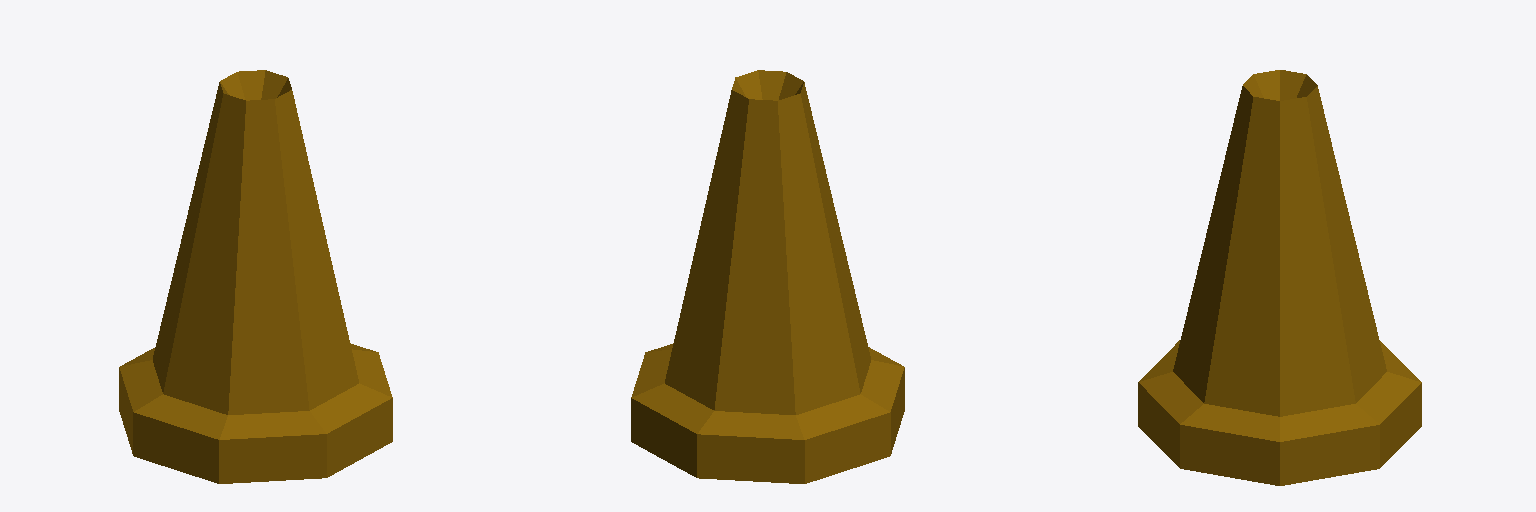
Rendered from street_cone.obj.
The picture shows the model from 3 angles: view 1: azimuth 30°, elevation 25°; view 2: azimuth 150°, elevation 25°; view 3: azimuth 270°, elevation 25°; orthographic projection.
Visible parts, largest first — view 1: street_cone.obj; view 2: street_cone.obj; view 3: street_cone.obj.
Part boxes in pixels (bbox=[...]): street_cone.obj: bbox=[119, 70, 392, 483]; street_cone.obj: bbox=[631, 70, 904, 483]; street_cone.obj: bbox=[1138, 70, 1421, 485].
Size of the model in its own units: 0.5514 by 0.7332 by 0.5515.